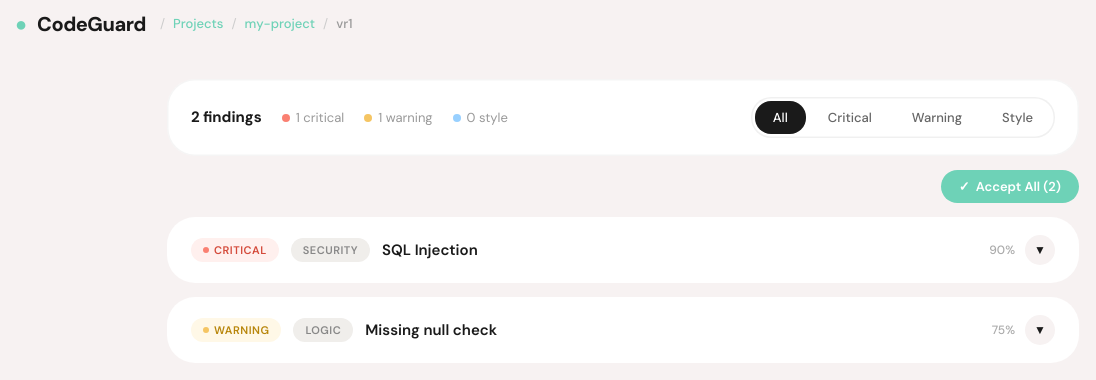
Test: ReviewDetail › filters findings by severity
Expected: the number of elements with test id "finding-card" is 2, [167, 217, 1079, 283]; [167, 297, 1079, 363]
Click the button with test id "filter-critical" at [850, 118], box [810, 101, 890, 134]
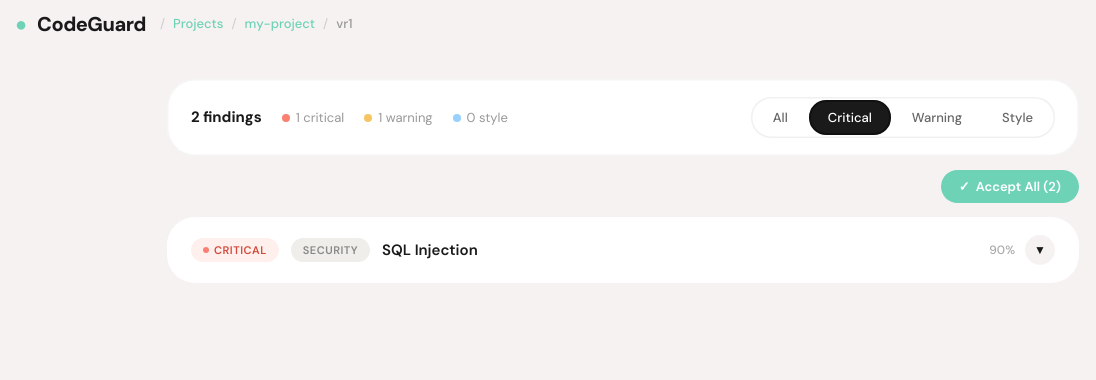
Expected: the text "SQL Injection" is shown, [382, 239, 478, 261]
Result: the number of elements with test id "finding-card" is 1 at [167, 217, 1079, 283]
